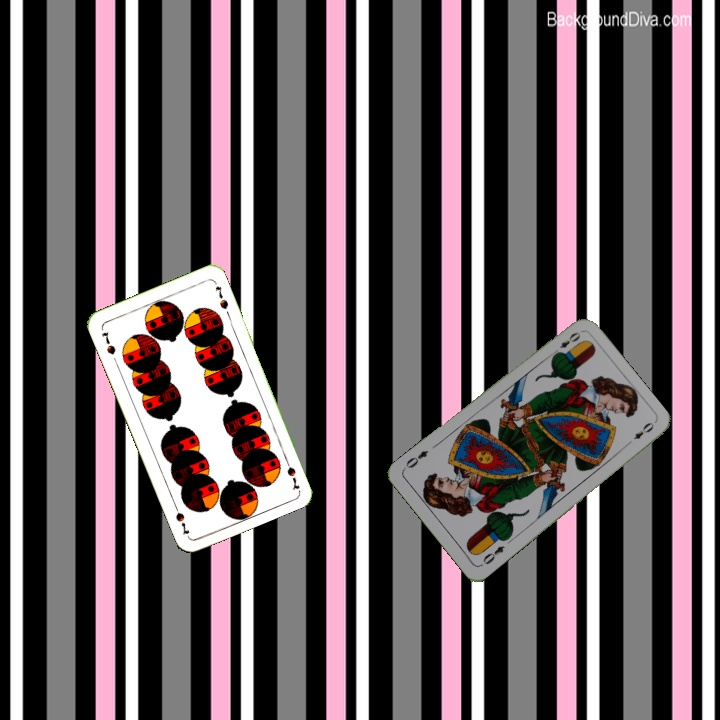EO: (548, 328, 583, 358), (476, 541, 507, 569)
S7: (280, 453, 303, 492), (98, 327, 118, 357)
